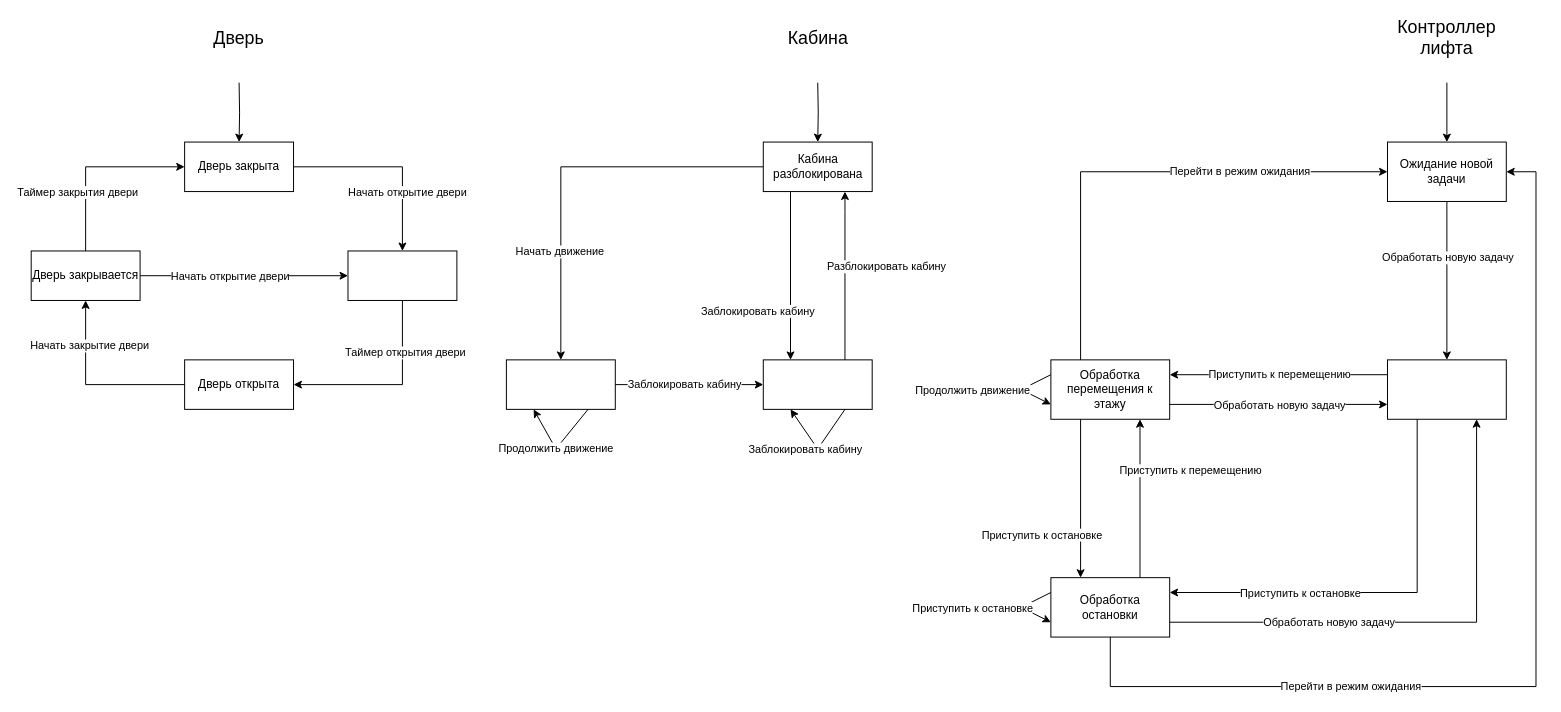
Some shapes in this 1561 by 712 pixel diagram are drawn without their labels. Here are the shapes that lost their labels. From the top down, the centre of each, then its label:
At pixel 402 275: "Дверь открывается".
At pixel 560 384: "Кабина двигается".
At pixel 817 384: "Кабина заблокирована".
At pixel 1446 389: "Обработка новой задачи".
